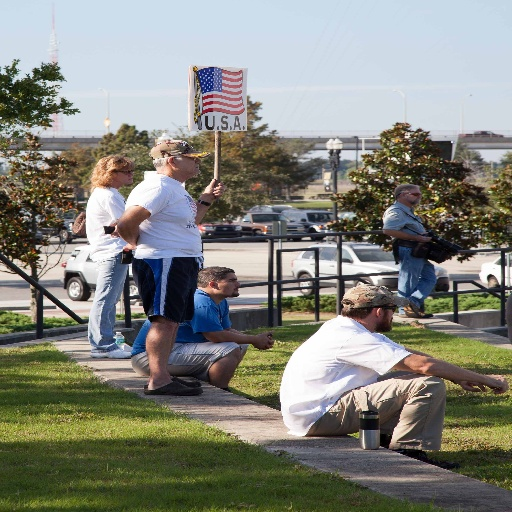hand: (429, 366, 502, 393), (197, 178, 225, 203), (457, 381, 494, 395), (252, 329, 275, 351), (261, 334, 275, 350), (107, 219, 117, 237), (416, 233, 433, 241), (120, 242, 135, 248)
